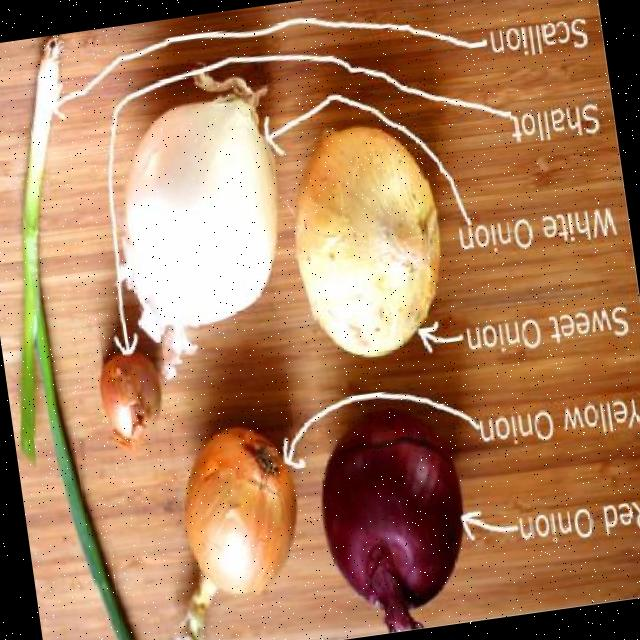Onion: (123, 94, 276, 337), (294, 125, 439, 355), (321, 412, 462, 632), (171, 426, 295, 640), (98, 352, 157, 449)
